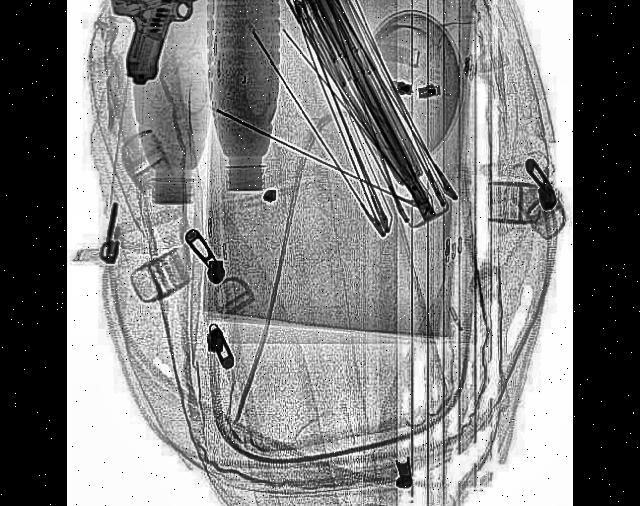Gun: (107, 0, 252, 86)
